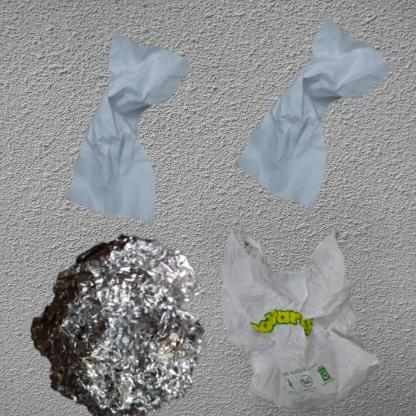aluminio: (10, 213, 237, 416)
bolsa: (213, 213, 389, 416)
papel: (10, 10, 272, 284), (213, 10, 416, 233)
